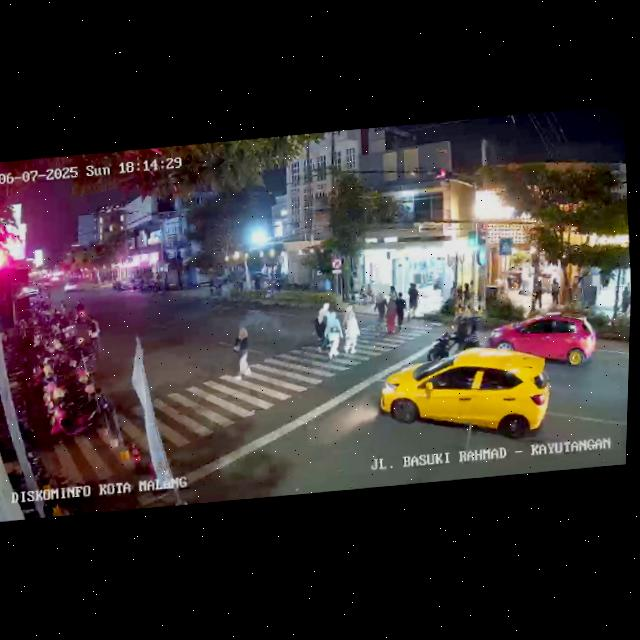car: (376, 339, 555, 453), (483, 310, 598, 373), (61, 280, 78, 294)
motorcycle: (427, 311, 483, 358)
person: (228, 322, 254, 381), (328, 304, 347, 358), (345, 303, 364, 355), (313, 301, 331, 354), (371, 292, 388, 331), (405, 281, 421, 322), (382, 293, 398, 334), (393, 292, 409, 331), (531, 277, 544, 310), (459, 278, 472, 309), (549, 274, 561, 305), (620, 286, 631, 316)
